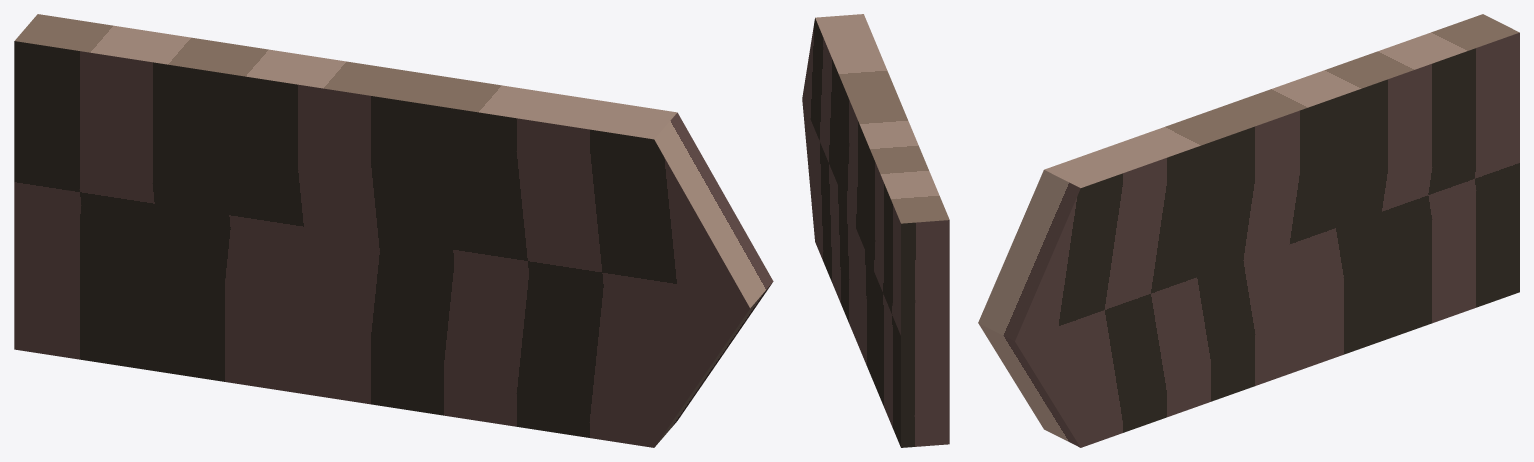
The model's file is sign_379x05.gltf.
The picture shows the model from 3 angles, left to right: view 1: azimuth 30°, elevation 25°; view 2: azimuth 150°, elevation 25°; view 3: azimuth 270°, elevation 25°; orthographic projection. The views are drawn at different scales.
Parts seen in each view (by area): view 1: sign_379x05; view 2: sign_379x05; view 3: sign_379x05.
Part boxes in pixels (bbox=[...]): sign_379x05: bbox=[14, 14, 773, 447]; sign_379x05: bbox=[802, 14, 949, 447]; sign_379x05: bbox=[978, 14, 1519, 447].
Size of the model in its own units: 0.8158 by 0.5 by 0.9452.
Materials: 1 (1 with a texture image).
